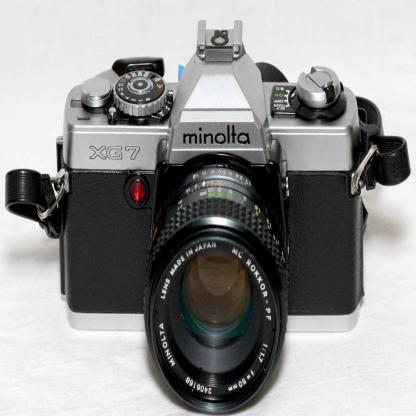Camera: (38, 20, 379, 415)
